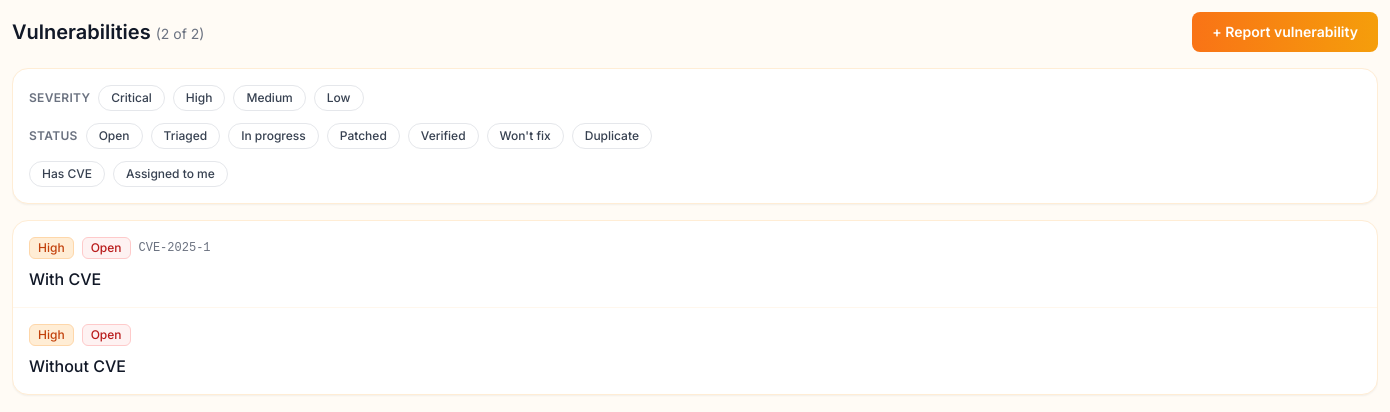
VulnerabilitiesList › filters by has-CVE
Click the button "Has CVE": click(67, 174) x1=29 y1=161 x2=105 y2=187
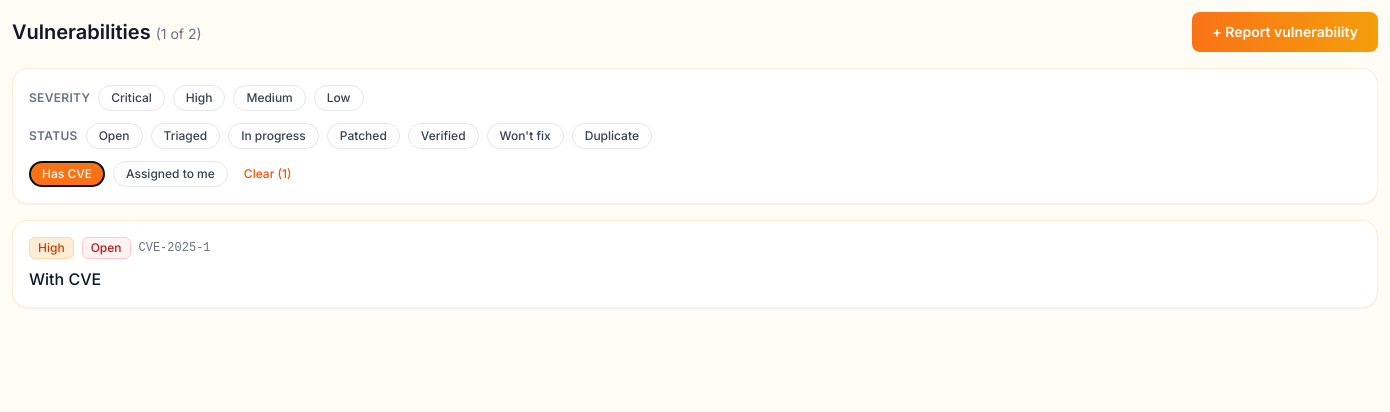
Expected: the text "With CVE" is shown, x1=29 y1=269 x2=101 y2=289
Now the link "Without CVE" is gone
